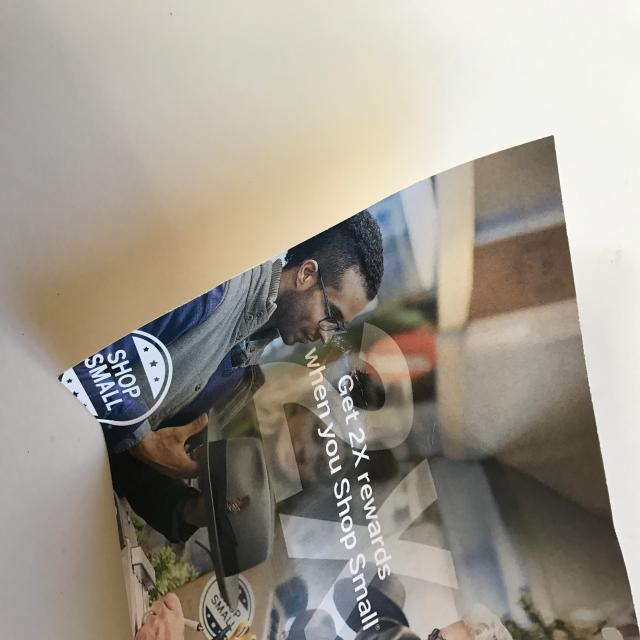paper: (55, 136, 640, 640)
